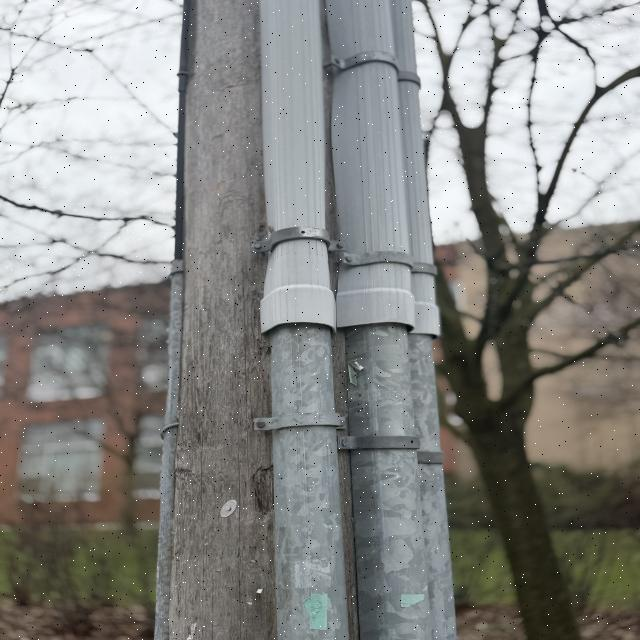Electrical Pole: (141, 0, 462, 639)
